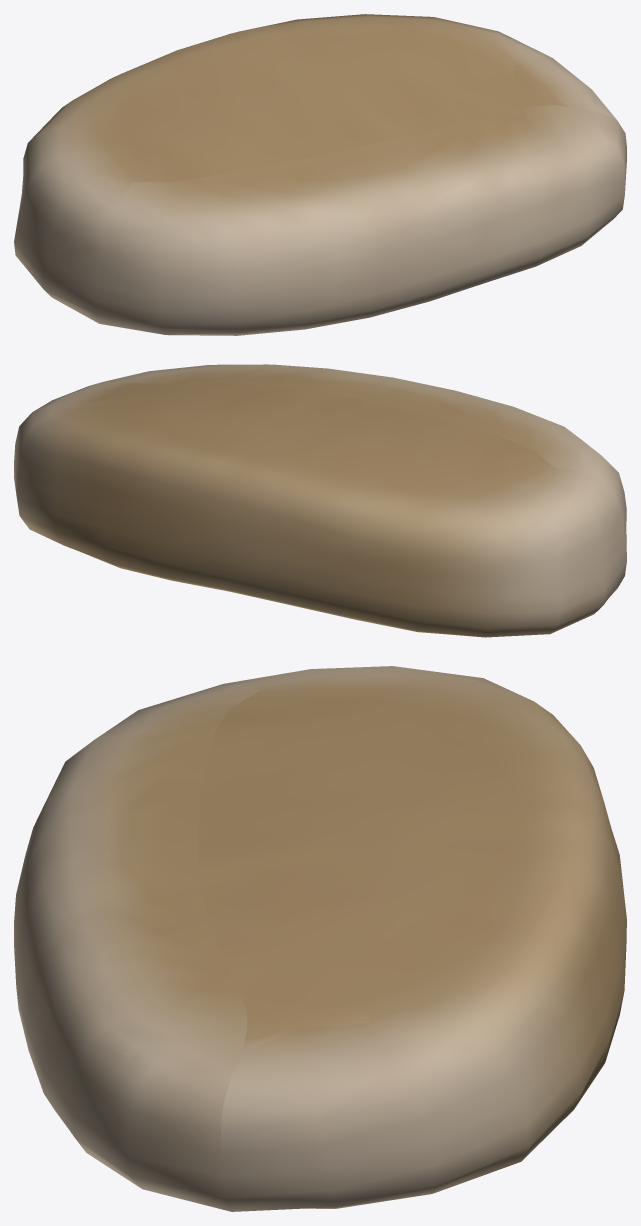
Rendered from R tarsi tertium.fbx.
The picture shows the model from 3 angles, top to bottom: view 1: azimuth 30°, elevation 25°; view 2: azimuth 150°, elevation 25°; view 3: azimuth 270°, elevation 25°; orthographic projection. The views are drawn at different scales.
Parts seen in each view (by area): view 1: R tarsi tertium, R tarsi tertium low; view 2: R tarsi tertium; view 3: R tarsi tertium, R tarsi tertium low.
Part boxes in pixels (box(x1,y1,x2,y2)): R tarsi tertium: box(14, 14, 626, 335); R tarsi tertium low: box(513, 64, 596, 153); R tarsi tertium: box(14, 364, 626, 637); R tarsi tertium: box(14, 666, 626, 1211); R tarsi tertium low: box(123, 1006, 589, 1078).
Bounding box in the file's own units: 6.25 × 1.59 × 3.95.
